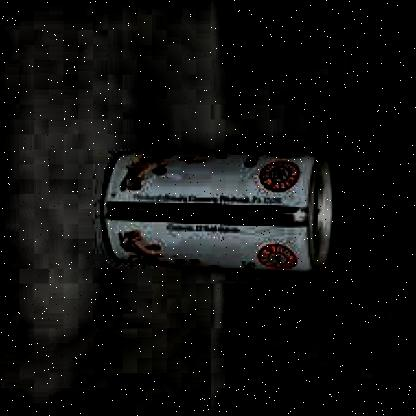Can: (99, 148, 336, 276)
